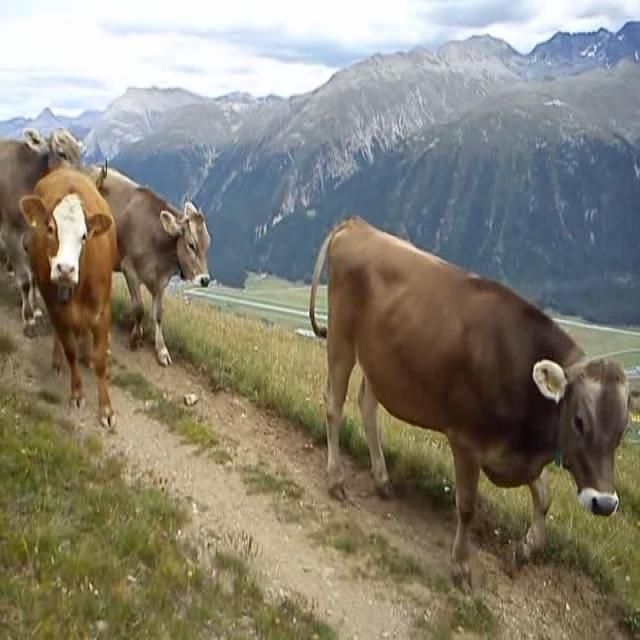cow: (306, 219, 631, 561), (16, 164, 116, 429), (89, 166, 208, 366), (0, 125, 85, 336)
